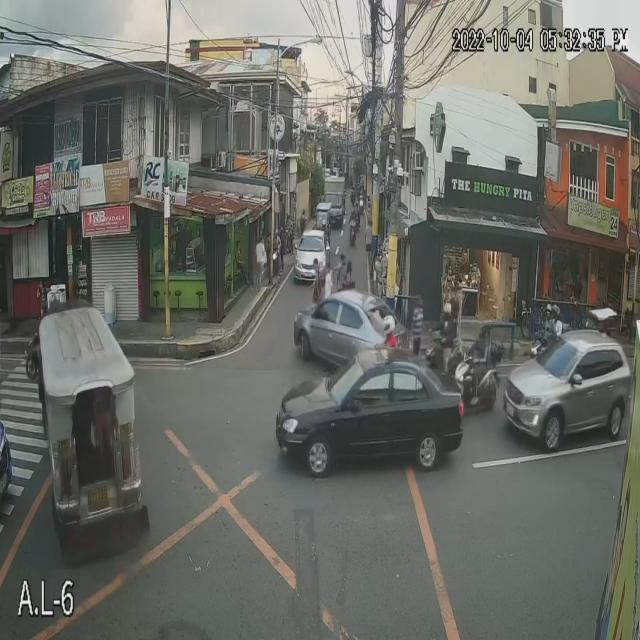full: (382, 314, 397, 336)
half: (443, 302, 452, 320)
